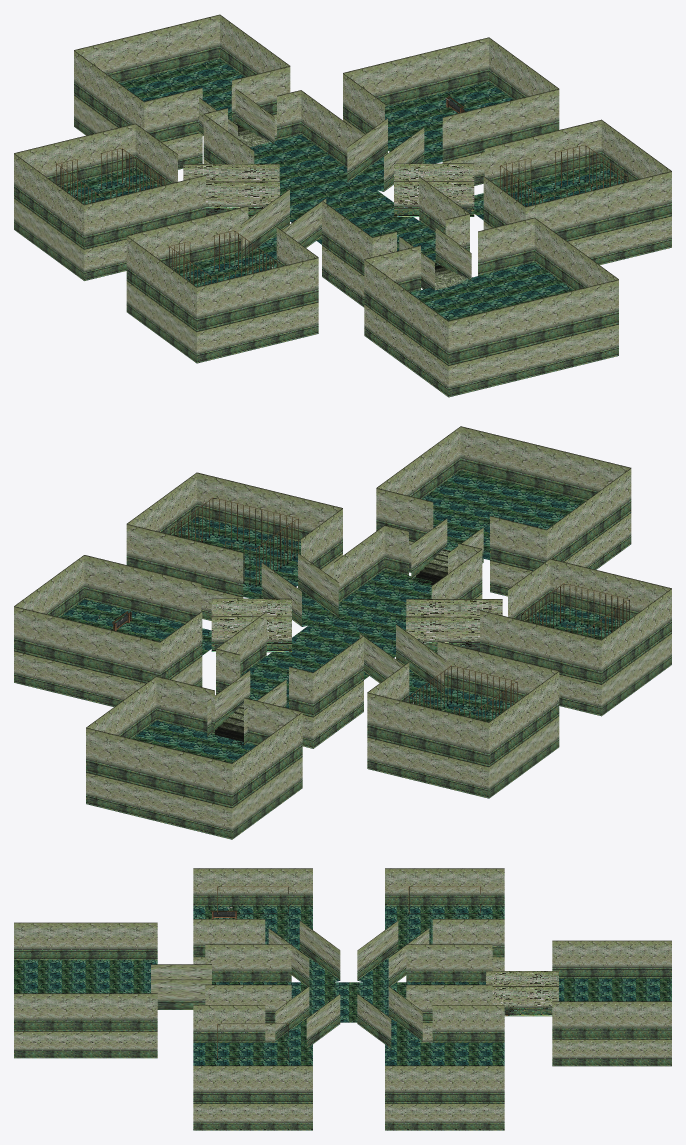
Rendered from anterose.gltf.
3 renders of one model, top to bottom at view 1: azimuth 30°, elevation 25°; view 2: azimuth 150°, elevation 25°; view 3: azimuth 270°, elevation 25°, orthographic. The views are drawn at different scales.
Visible parts, largest first — view 1: Le bloc des captifs; view 2: Le bloc des captifs; view 3: Le bloc des captifs.
Boxes of the visible parts, x1=… form: Le bloc des captifs: x1=14, y1=14, x2=671, y2=397; Le bloc des captifs: x1=14, y1=426, x2=671, y2=839; Le bloc des captifs: x1=14, y1=868, x2=671, y2=1130.
Bounding box in the file's own units: 39 × 7.2 × 55.
10 materials, 10 textured.
